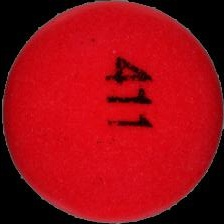50844-411: (0, 0, 224, 224)
